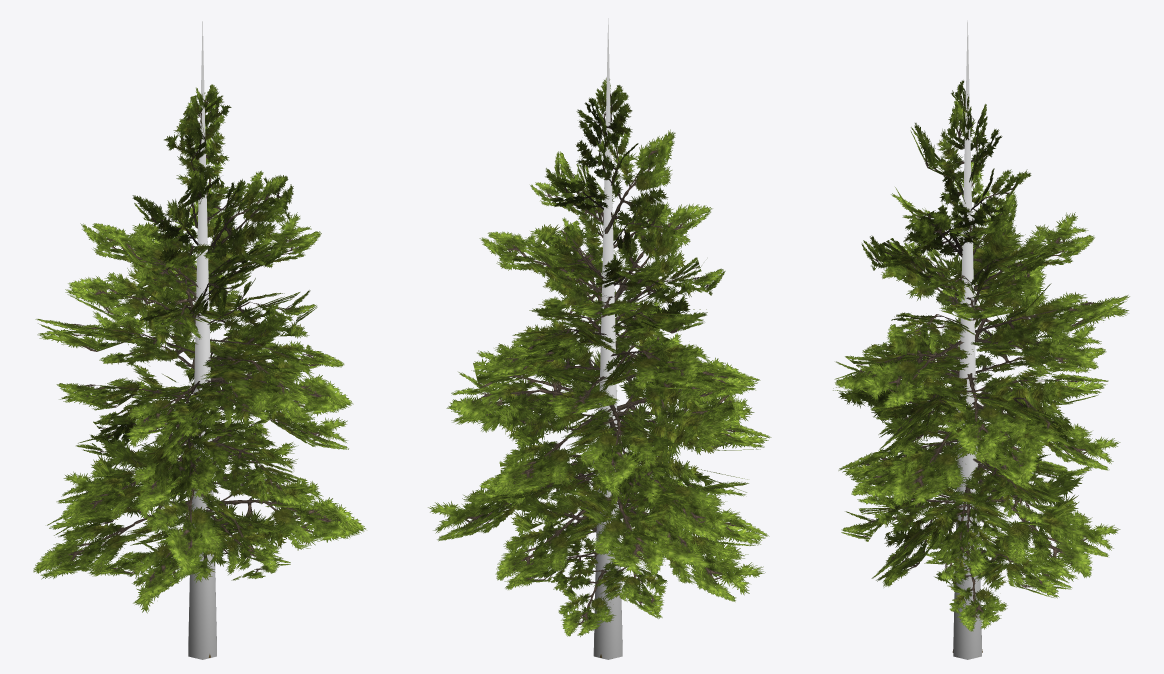
The model's file is whitePineTest.dae.
3 renders of one model, left to right at view 1: azimuth 30°, elevation 25°; view 2: azimuth 150°, elevation 25°; view 3: azimuth 270°, elevation 25°, orthographic.
Visible parts, largest first — view 1: leaves500, leaves200, col-1; view 2: leaves500, leaves200, col-1; view 3: leaves500, leaves200, col-1.
Boxes of the visible parts, box(x1,y1,x2,y2) form: leaves500: box(33, 84, 362, 609); leaves200: box(33, 91, 365, 613); col-1: box(188, 21, 216, 659); leaves500: box(428, 78, 768, 636); leaves200: box(433, 92, 771, 636); col-1: box(593, 18, 622, 659); leaves500: box(833, 80, 1128, 631); leaves200: box(833, 86, 1129, 629); col-1: box(953, 20, 981, 659).
Size of the model in its own units: 40.41 by 36.15 by 77.25.
